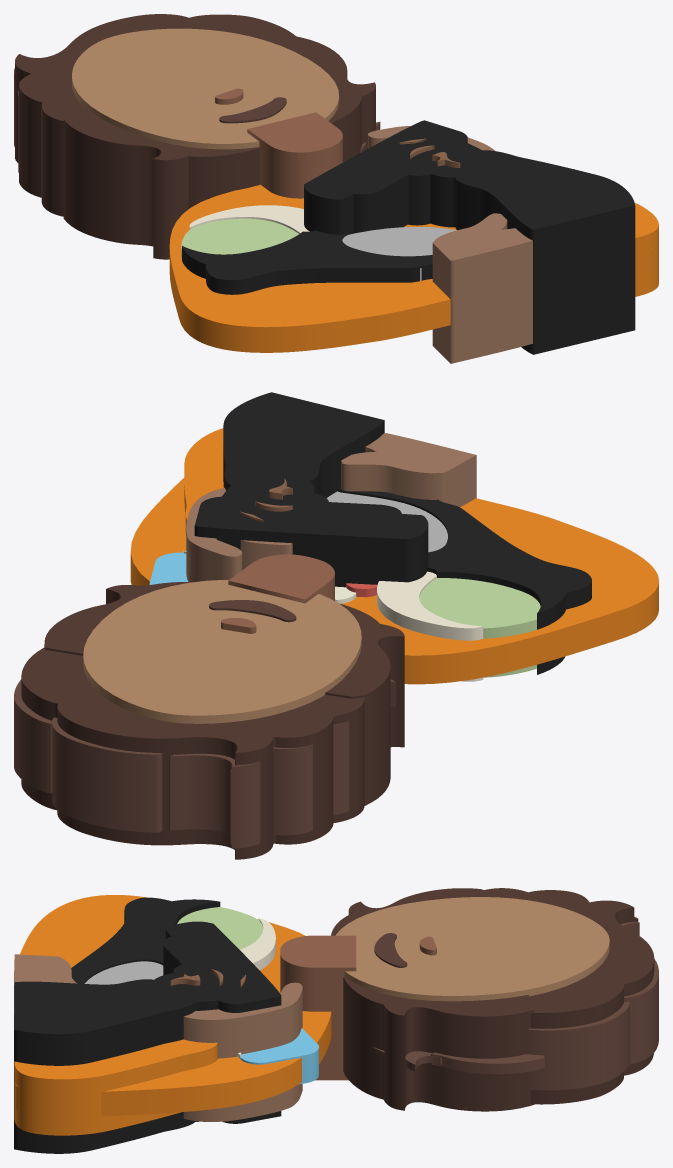
File: emoji_u1f9d1_1f3fd_200d_1f37c.glb
The picture shows the model from 3 angles, top to bottom: view 1: azimuth 30°, elevation 25°; view 2: azimuth 150°, elevation 25°; view 3: azimuth 270°, elevation 25°; orthographic projection. The views are drawn at different scales.
Parts seen in each view (by area): view 1: emoji_u1f9d1_1f3fd_200d_1f37c; view 2: emoji_u1f9d1_1f3fd_200d_1f37c; view 3: emoji_u1f9d1_1f3fd_200d_1f37c.
Boxes of the visible parts, left/top/right/bottom form: emoji_u1f9d1_1f3fd_200d_1f37c: left=14, top=14, right=658, bottom=363; emoji_u1f9d1_1f3fd_200d_1f37c: left=14, top=392, right=658, bottom=859; emoji_u1f9d1_1f3fd_200d_1f37c: left=14, top=888, right=658, bottom=1153.
Size of the model in its own units: 0.0244 by 0.0074 by 0.0332.
